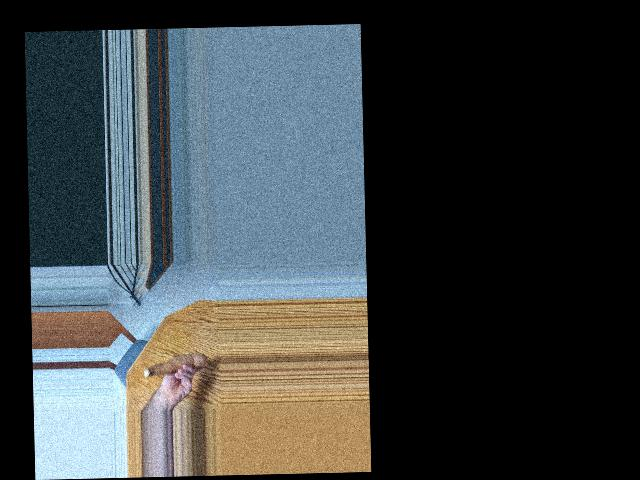sweet_potato: (146, 350, 204, 379)
